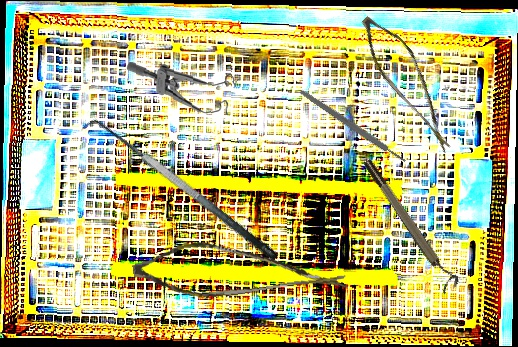Fixation Ring: (360, 153, 463, 295)
Micro Scissor: (130, 222, 349, 318), (340, 9, 480, 155)
Scalpel Handle: (298, 88, 408, 165)
Spatula Surgical: (79, 106, 281, 278)
Speculum: (123, 61, 243, 117)
